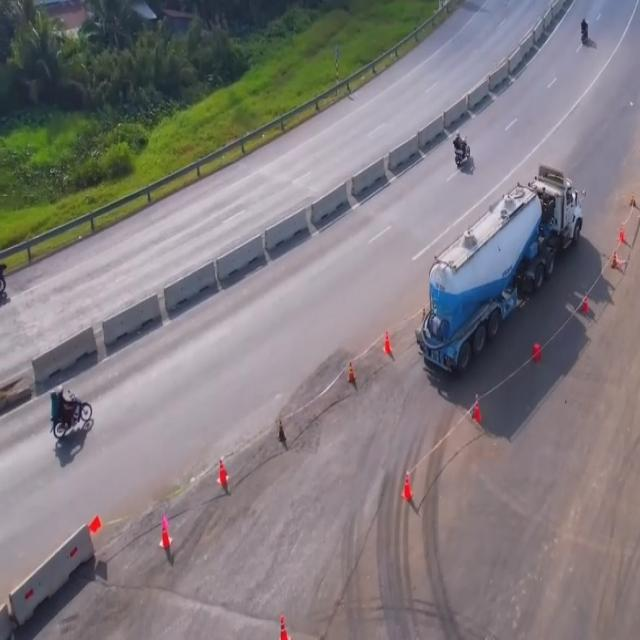motorbike: (49, 384, 91, 439), (452, 130, 472, 171), (578, 16, 591, 46)
truck: (417, 159, 583, 377)
